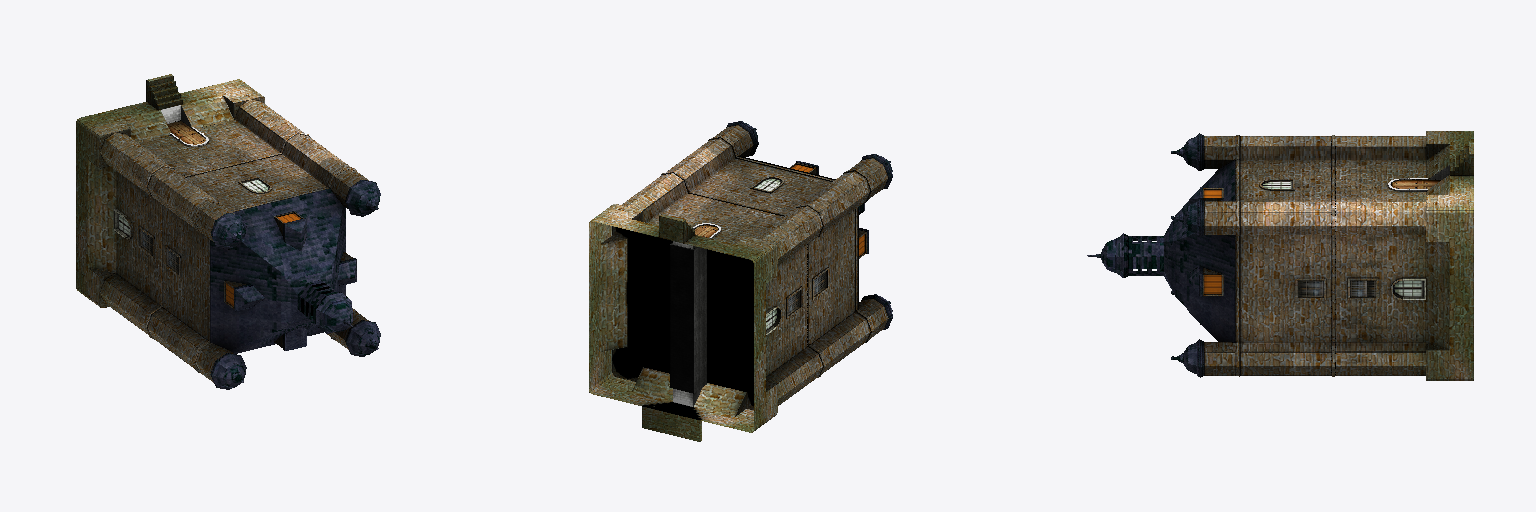
3 views of the same model, side by side, from view 1: azimuth 30°, elevation 25°; view 2: azimuth 150°, elevation 25°; view 3: azimuth 270°, elevation 25° (orthographic).
Size of the model in its own units: 1.01 by 1.23 by 2.
1 materials, 1 textured.